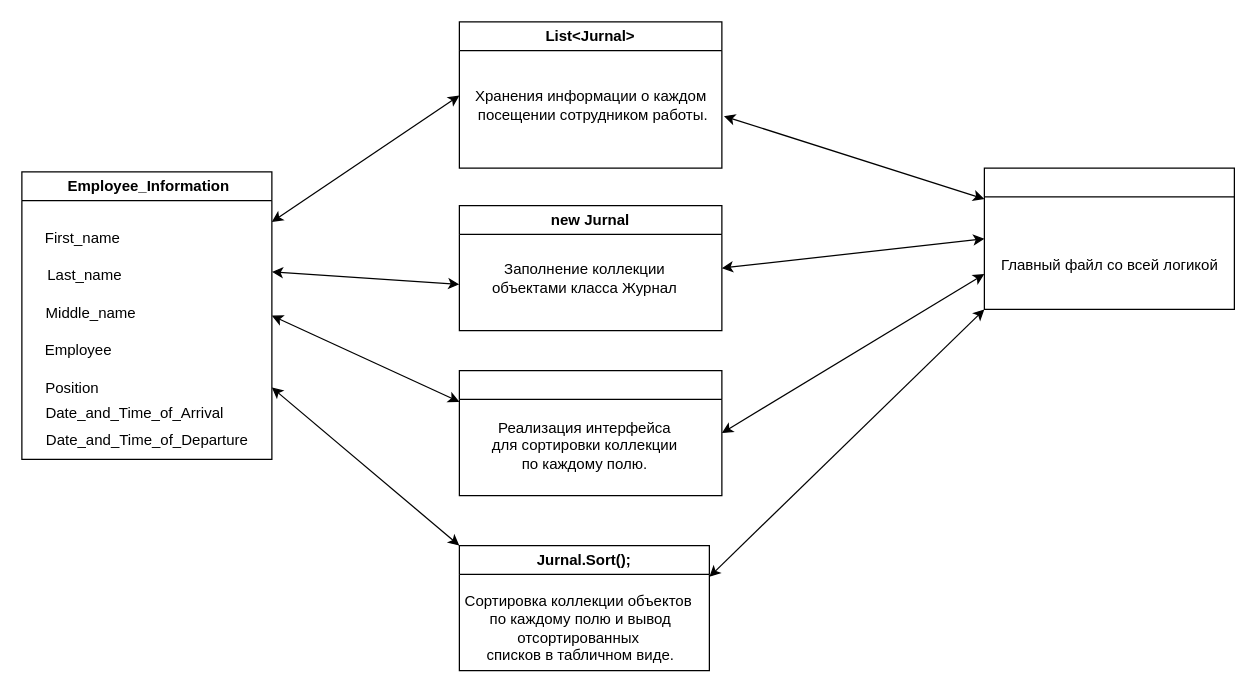
Image size: 1256x694. Some labels were removed from this diagram. Each missing label, with the box of its shape:
IComparable<T>: (458, 369, 722, 496)
Program: (983, 167, 1234, 309)
